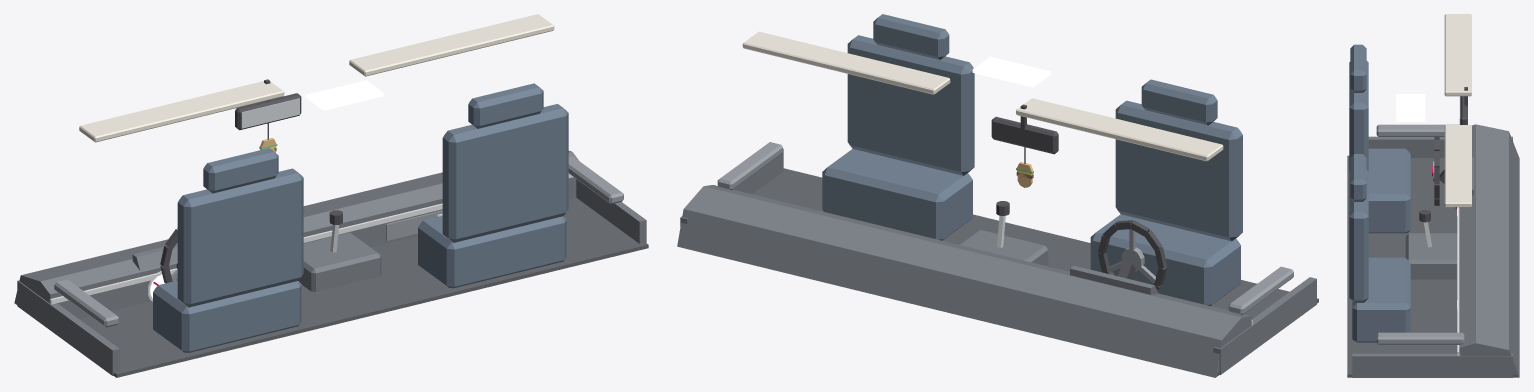
File: truck_cab.glb
3 renders of one model, left to right at view 1: azimuth 30°, elevation 25°; view 2: azimuth 150°, elevation 25°; view 3: azimuth 270°, elevation 25°, orthographic. The views are drawn at different scales.
Parts seen in each view (by area): view 1: cab_static_asiento, cab_static_tablero_cabina, cab_static_piso_cabina, cab_static_crema, cab_static_tablero_claro, cab_static_cromo, cab_static_brillo_techo, cab_static_espejo, cab_static_oscuro; view 2: cab_static_asiento, cab_static_tablero_cabina, cab_static_crema, cab_static_piso_cabina, cab_static_tablero_claro, cab_static_oscuro, cab_static_brillo_techo, cab_volante_oscuro, cab_volante_tablero_claro; view 3: cab_static_tablero_cabina, cab_static_asiento, cab_static_piso_cabina, cab_static_crema, cab_static_tablero_claro, cab_static_brillo_techo, cab_static_cromo, cab_static_oscuro, cab_volante_oscuro.
Boxes of the visible parts, bbox=[...] form: cab_static_asiento: bbox=[153, 83, 568, 352]; cab_static_tablero_cabina: bbox=[14, 150, 646, 375]; cab_static_piso_cabina: bbox=[79, 197, 648, 377]; cab_static_crema: bbox=[79, 14, 554, 142]; cab_static_tablero_claro: bbox=[54, 156, 623, 327]; cab_static_cromo: bbox=[49, 173, 573, 304]; cab_static_brillo_techo: bbox=[306, 80, 383, 110]; cab_static_espejo: bbox=[241, 98, 299, 128]; cab_static_oscuro: bbox=[176, 79, 342, 268]; cab_static_asiento: bbox=[822, 14, 1242, 305]; cab_static_tablero_cabina: bbox=[677, 148, 1316, 377]; cab_static_crema: bbox=[742, 31, 1223, 161]; cab_static_piso_cabina: bbox=[752, 168, 1318, 376]; cab_static_tablero_claro: bbox=[717, 142, 1293, 314]; cab_static_oscuro: bbox=[991, 104, 1135, 279]; cab_static_brillo_techo: bbox=[972, 56, 1050, 87]; cab_volante_oscuro: bbox=[1098, 220, 1166, 289]; cab_volante_tablero_claro: bbox=[1107, 229, 1155, 283]; cab_static_tablero_cabina: bbox=[1352, 124, 1519, 377]; cab_static_asiento: bbox=[1349, 44, 1410, 342]; cab_static_piso_cabina: bbox=[1347, 155, 1517, 377]; cab_static_crema: bbox=[1444, 14, 1471, 207]; cab_static_tablero_claro: bbox=[1376, 124, 1464, 344]; cab_static_brillo_techo: bbox=[1396, 94, 1425, 121]; cab_static_cromo: bbox=[1423, 207, 1460, 355]; cab_static_oscuro: bbox=[1419, 87, 1467, 222]; cab_volante_oscuro: bbox=[1434, 136, 1439, 205].
Size of the model in its own units: 2.67 by 0.9222 by 0.885.
